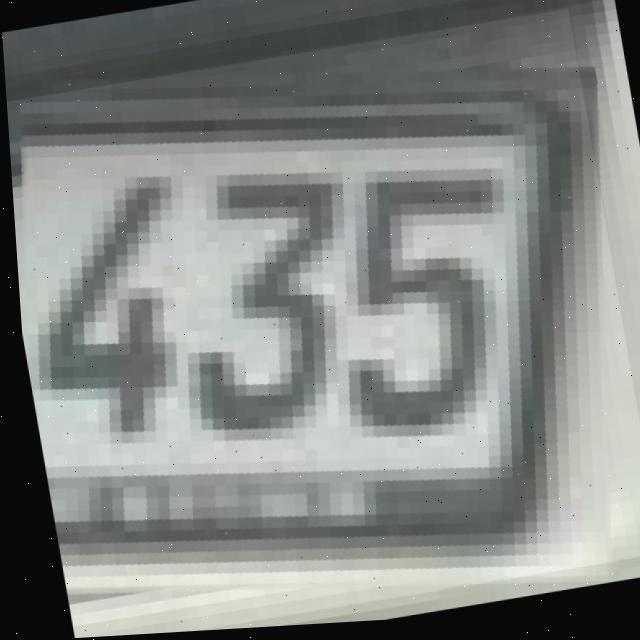LicensePlate: (2, 13, 640, 640)
